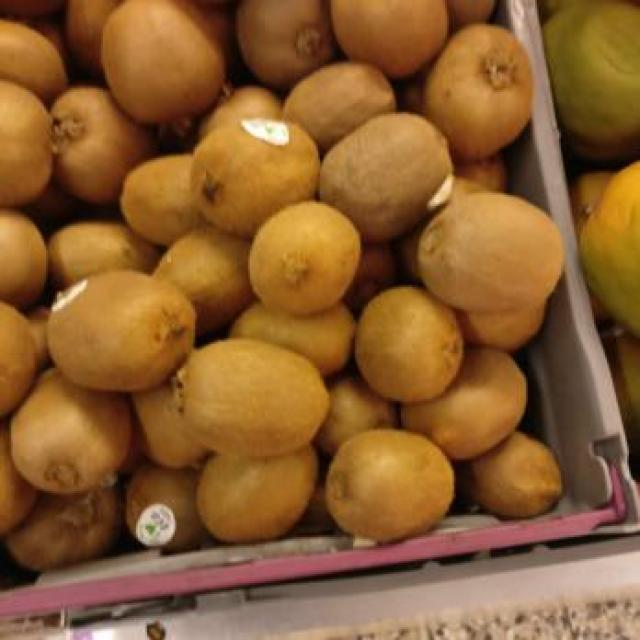kiwi: (48, 270, 196, 392), (178, 339, 329, 456), (418, 191, 564, 311), (320, 112, 452, 242), (101, 0, 225, 123), (11, 369, 131, 494), (191, 121, 318, 236), (425, 24, 531, 161), (326, 429, 454, 542), (401, 349, 525, 459), (355, 286, 464, 403), (249, 201, 361, 314), (196, 445, 318, 542), (51, 88, 152, 203), (154, 226, 254, 336), (284, 65, 396, 149), (6, 488, 120, 569), (332, 0, 449, 78), (232, 302, 354, 374), (236, 0, 332, 88), (472, 431, 562, 517), (120, 154, 204, 244), (49, 222, 159, 287), (133, 381, 209, 468), (126, 468, 205, 551), (0, 80, 51, 206), (316, 381, 396, 454), (0, 19, 68, 102), (0, 209, 46, 308), (456, 304, 544, 351), (1, 301, 36, 417), (202, 88, 281, 137)
